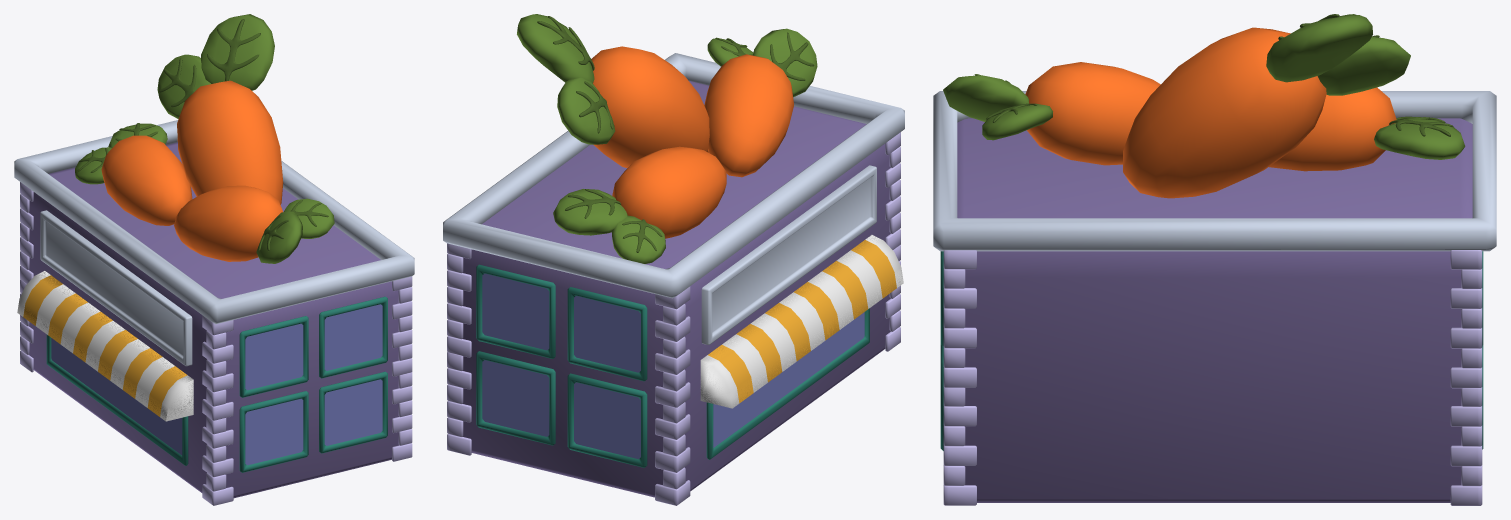
Rendered from Market_with_sign.fbx.
The picture shows the model from 3 angles, left to right: view 1: azimuth 30°, elevation 25°; view 2: azimuth 150°, elevation 25°; view 3: azimuth 270°, elevation 25°; orthographic projection. The views are drawn at different scales.
Visible parts, largest first — view 1: Plane.922, Plane.923, Circle.006, Cube.205, Plane.924, Cube.211, Cube.208, Cube.207, Cube.217, Cube.216, Cube.219, Cube.218 (+17 smaller); view 2: Plane.922, Plane.923, Circle.006, Plane.924, Cube.205, Cube.211, Cube.208, Cube.221, Cube.220, Cube.222, Cube.223, Cube.215 (+17 smaller); view 3: Plane.922, Plane.923, Cube.205, Cube.211, Cube.208, Cube.207, Cube.206, Cube.210, Cube.213, Cube.212, Plane.981, Plane.983 (+12 smaller).
Boxes of the visible parts, x1=… form: Plane.922: x1=29, y1=142, x2=399, y2=498; Plane.923: x1=14, y1=120, x2=414, y2=324; Circle.006: x1=17, y1=271, x2=193, y2=421; Cube.205: x1=177, y1=80, x2=283, y2=204; Plane.924: x1=40, y1=210, x2=192, y2=366; Cube.211: x1=174, y1=185, x2=282, y2=261; Cube.208: x1=101, y1=135, x2=192, y2=225; Cube.207: x1=201, y1=14, x2=274, y2=90; Cube.217: x1=245, y1=398, x2=303, y2=465; Cube.216: x1=245, y1=323, x2=303, y2=390; Cube.219: x1=324, y1=379, x2=382, y2=445; Cube.218: x1=324, y1=304, x2=382, y2=370; Plane.922: x1=462, y1=80, x2=890, y2=497; Plane.923: x1=443, y1=53, x2=904, y2=298; Circle.006: x1=700, y1=235, x2=903, y2=408; Plane.924: x1=701, y1=165, x2=876, y2=344; Cube.205: x1=591, y1=46, x2=709, y2=168; Cube.211: x1=704, y1=54, x2=793, y2=177; Cube.208: x1=612, y1=146, x2=726, y2=238; Cube.221: x1=482, y1=360, x2=549, y2=436; Cube.220: x1=482, y1=273, x2=549, y2=350; Cube.222: x1=574, y1=296, x2=640, y2=372; Cube.223: x1=574, y1=382, x2=640, y2=459; Cube.215: x1=713, y1=312, x2=864, y2=447; Plane.922: x1=957, y1=118, x2=1472, y2=502; Plane.923: x1=933, y1=91, x2=1496, y2=251; Cube.205: x1=1123, y1=27, x2=1326, y2=198; Cube.211: x1=1025, y1=62, x2=1160, y2=165; Cube.208: x1=1269, y1=87, x2=1396, y2=171; Cube.207: x1=1266, y1=14, x2=1372, y2=82; Cube.206: x1=1317, y1=35, x2=1410, y2=95; Cube.210: x1=1374, y1=117, x2=1465, y2=159; Cube.213: x1=943, y1=74, x2=1028, y2=121; Cube.212: x1=982, y1=103, x2=1052, y2=140; Plane.981: x1=943, y1=327, x2=976, y2=348; Plane.983: x1=943, y1=288, x2=976, y2=308.
Bounding box in the file's own units: 986 × 1431 × 1531.
